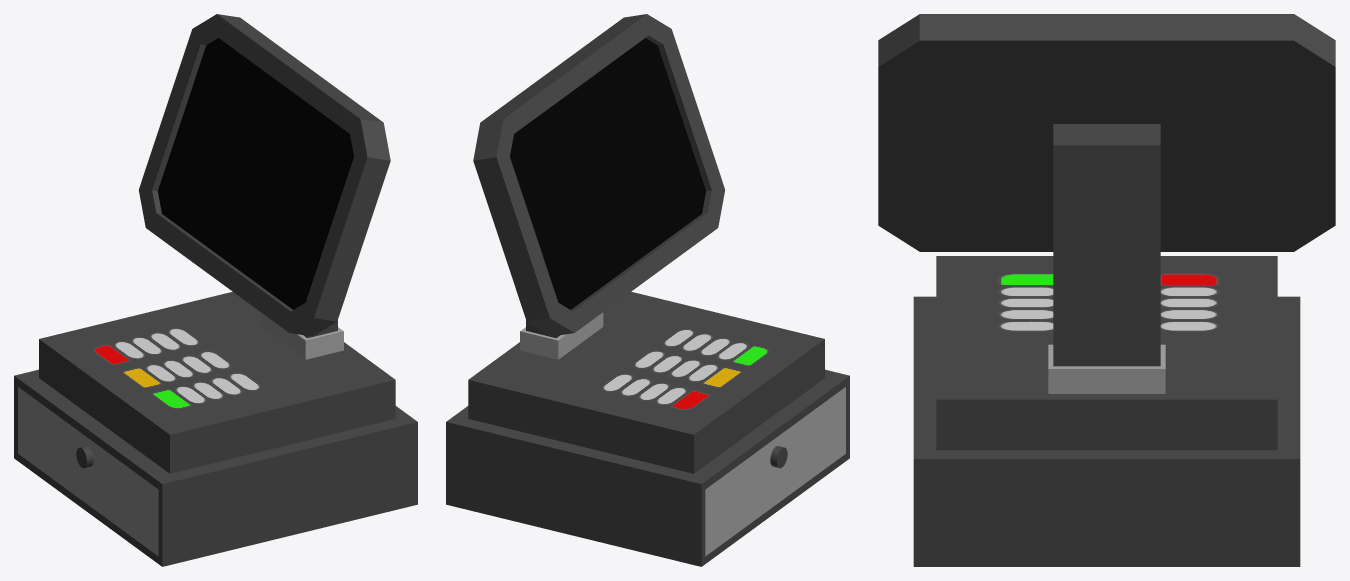
File: [NEW] pos_model.fbx
3 views of the same model, side by side, from view 1: azimuth 30°, elevation 25°; view 2: azimuth 150°, elevation 25°; view 3: azimuth 270°, elevation 25° (orthographic). The views are drawn at different scales.
Visible parts, largest first — view 1: Cube.003, Cube.004, Cube, Cube.005; view 2: Cube.003, Cube.004, Cube, Cube.005; view 3: Cube.003, Cube, Cube.004, Cube.002, Cube.005.
Part boxes in pixels (x1,y1,x2,y2): Cube.003: [139, 14, 390, 336]; Cube.004: [39, 291, 395, 473]; Cube: [14, 369, 417, 566]; Cube.005: [260, 312, 343, 359]; Cube.003: [473, 14, 724, 336]; Cube.004: [468, 291, 824, 473]; Cube: [446, 369, 849, 566]; Cube.005: [520, 312, 603, 359]; Cube.003: [878, 14, 1335, 251]; Cube: [913, 296, 1300, 566]; Cube.004: [936, 256, 1277, 450]; Cube.002: [1053, 124, 1160, 366]; Cube.005: [1048, 344, 1165, 393].
Bounding box in the file's own units: 185 × 268 × 215.
